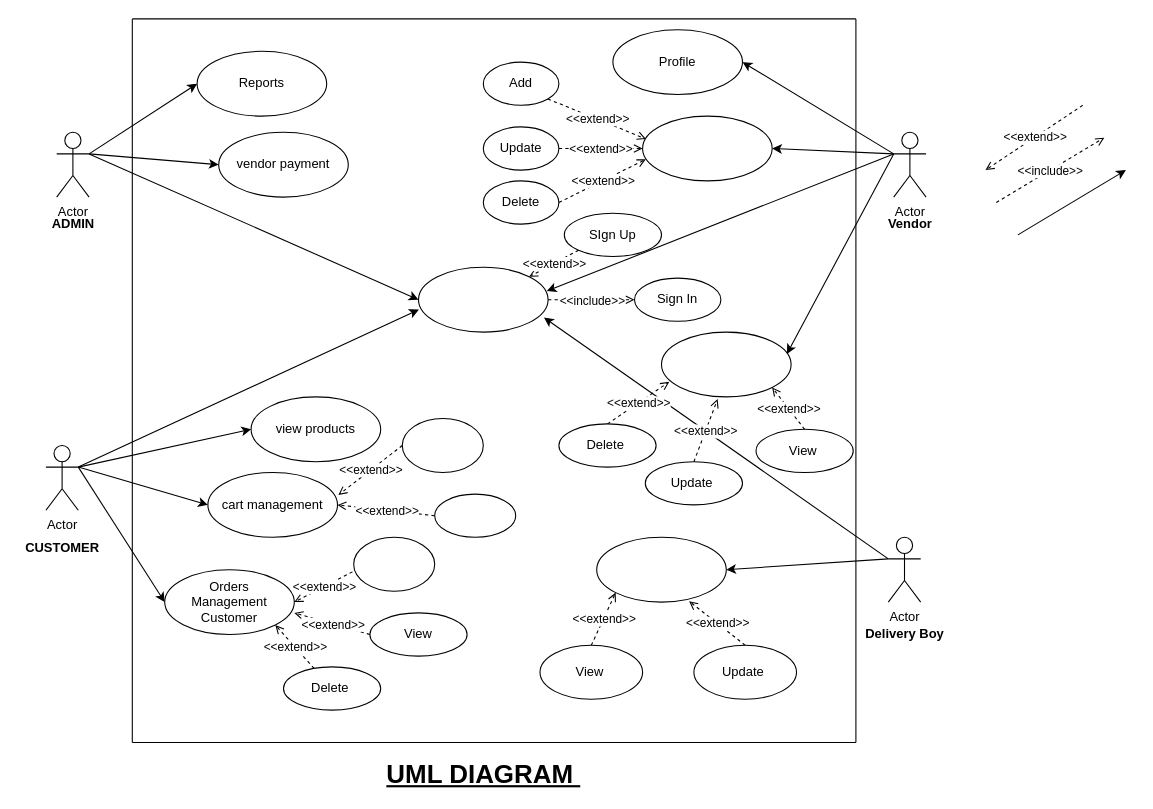
Image size: 1153x809. Some labels were removed from this diagram. Each missing label, with the box of its shape:
Add Product: (434, 493, 516, 537)
Aunthentication: (417, 266, 548, 332)
Clear Cart: (401, 417, 483, 473)
Order Management Seller: (660, 331, 791, 397)
Orders Management Delivery Boy: (596, 536, 726, 602)
Payment: (353, 536, 435, 591)
Product Management: (642, 115, 772, 181)
